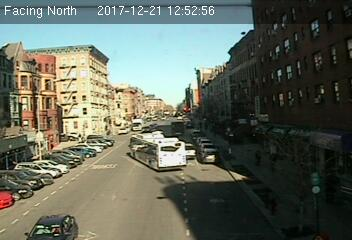bus: (129, 133, 186, 172)
car: (199, 147, 223, 163), (184, 141, 198, 159)
ups: (170, 121, 185, 135)
